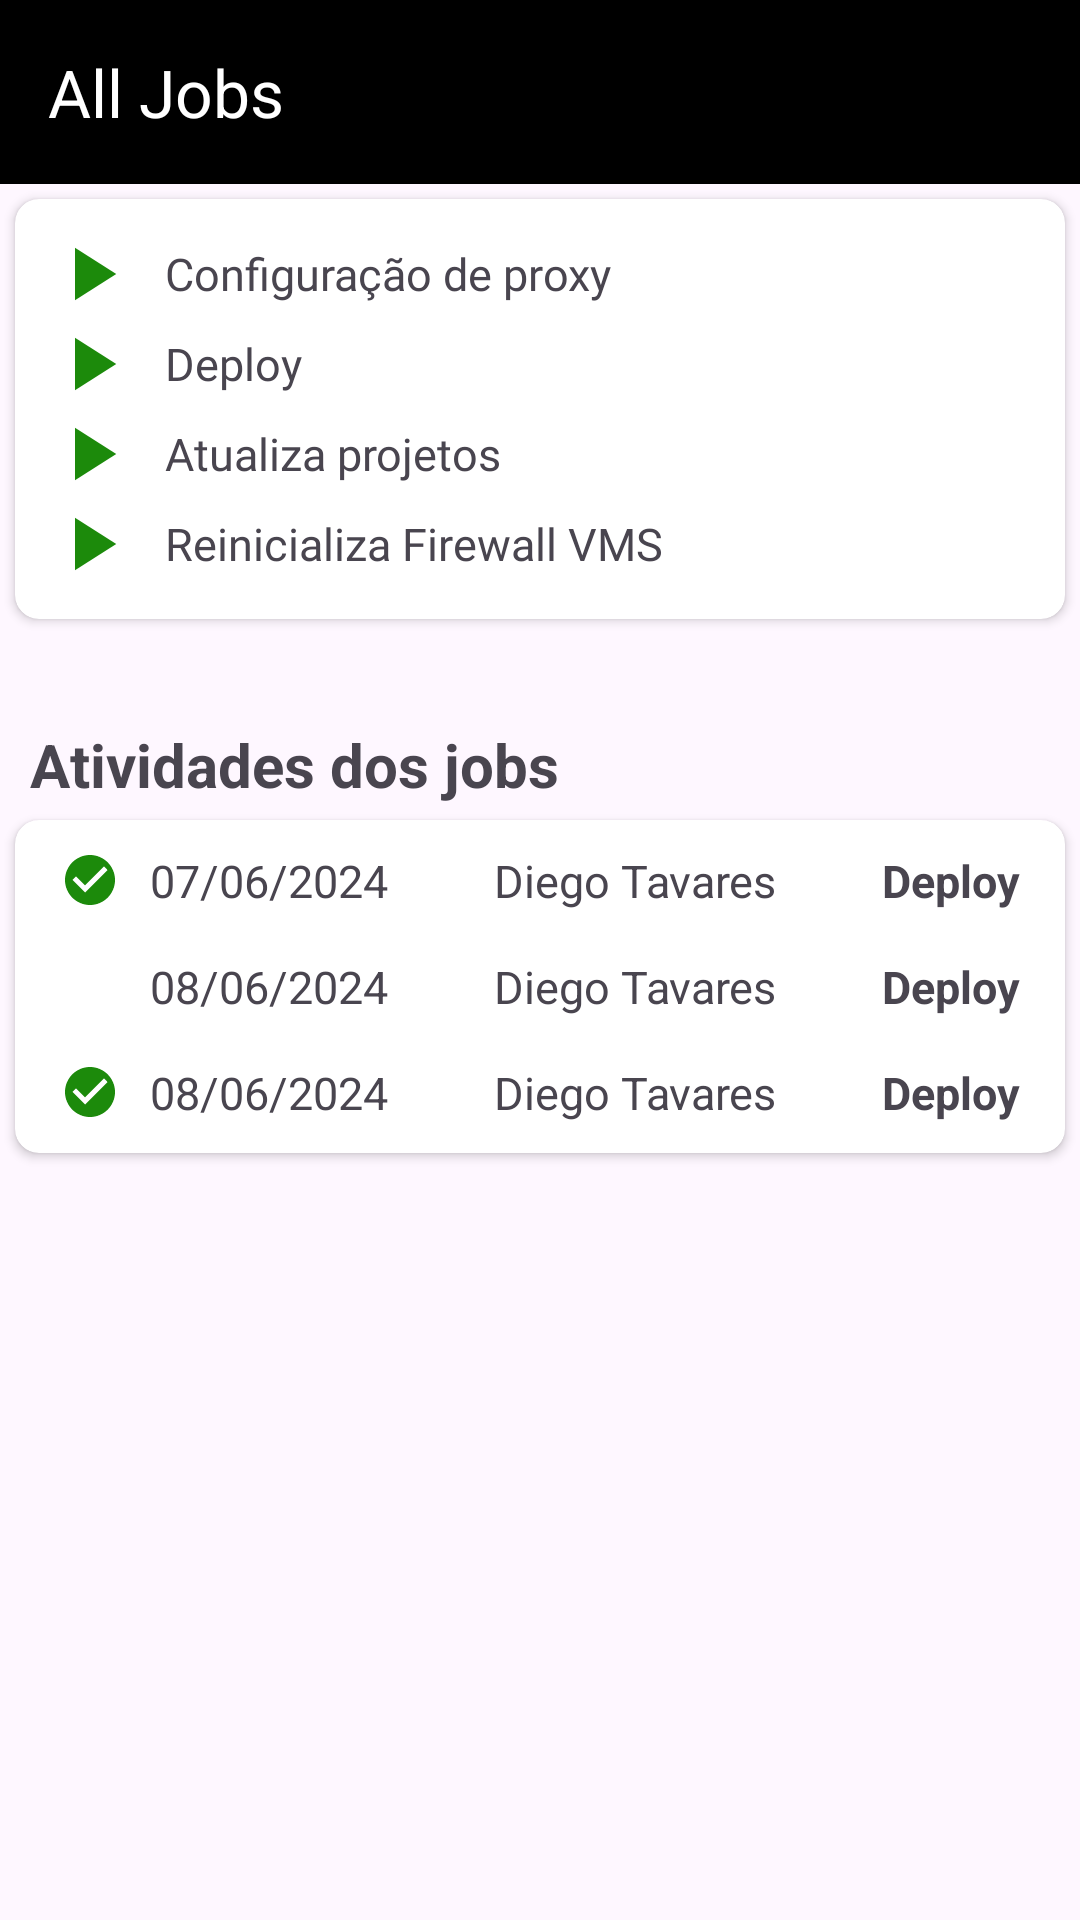

Named icons in this screenshot (1080 x 1920) and their bounding boxes, [left=x1, top=y1, right=x2, bottom=y2]:
check: [left=65, top=855, right=115, bottom=905], [left=65, top=1067, right=115, bottom=1117]
play: [left=75, top=248, right=116, bottom=300], [left=75, top=338, right=116, bottom=390], [left=75, top=428, right=116, bottom=480], [left=75, top=518, right=116, bottom=570]
